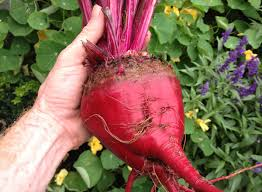beet: (80, 1, 220, 192)
